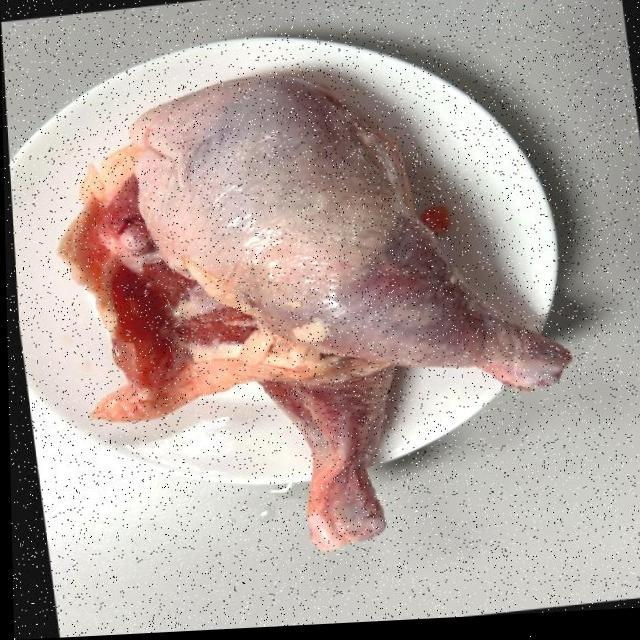quater: (158, 76, 553, 402), (104, 220, 388, 556)
